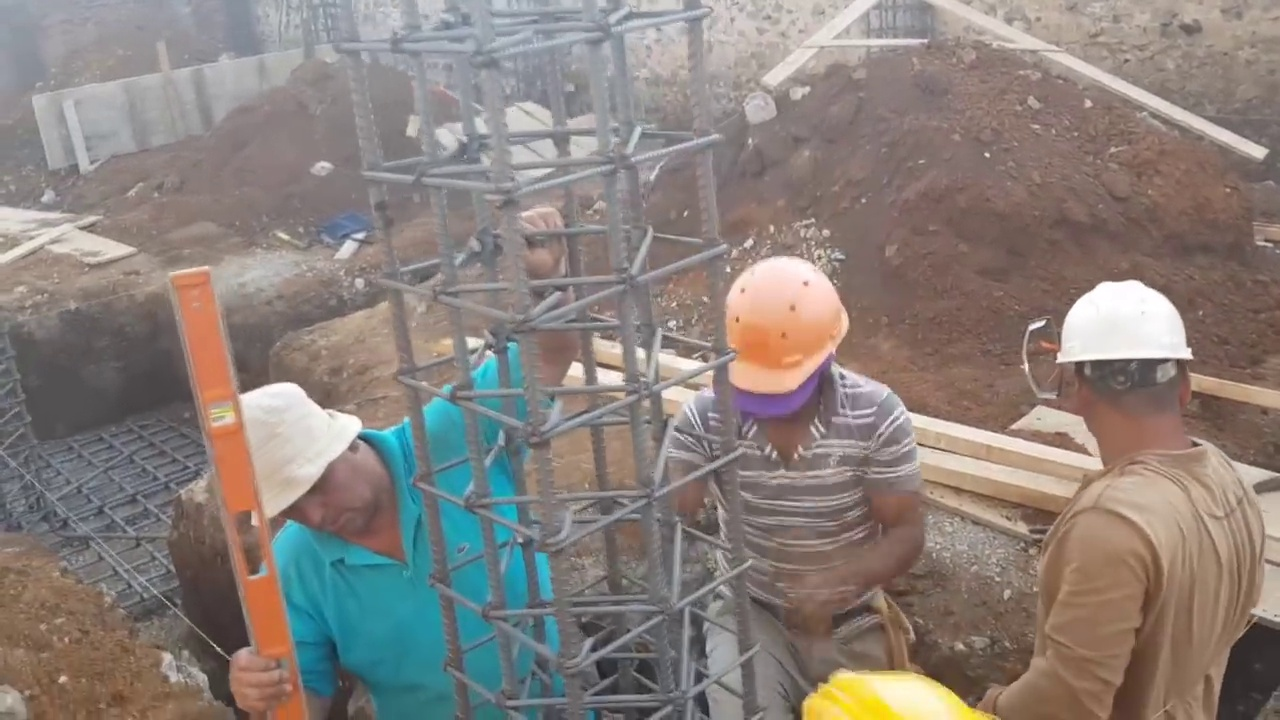helmet: (720, 243, 853, 395), (1056, 279, 1204, 382), (808, 669, 987, 720)
helmet-off: (223, 389, 368, 550)
helmet-on: (1056, 278, 1208, 472), (720, 240, 856, 446)
person: (219, 206, 586, 719), (666, 239, 926, 718), (988, 279, 1265, 720)
